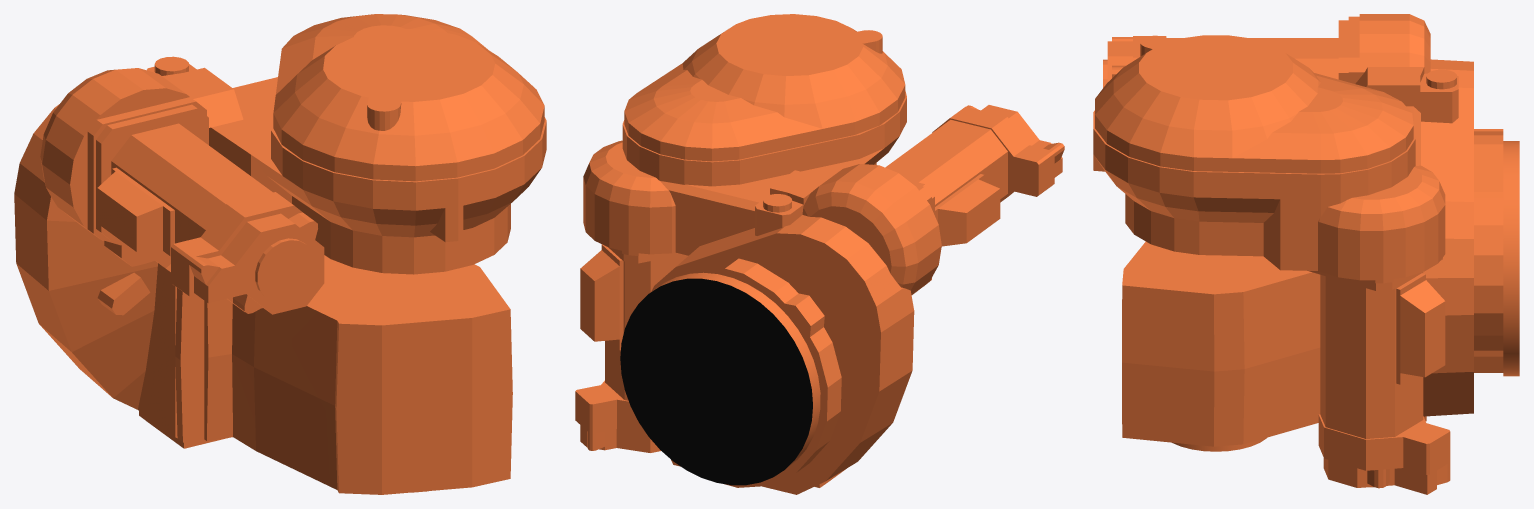
The model's file is irb140_link_1.obj.
3 renders of one model, left to right at view 1: azimuth 30°, elevation 25°; view 2: azimuth 150°, elevation 25°; view 3: azimuth 270°, elevation 25°, orthographic. The views are drawn at different scales.
Parts seen in each view (by area): view 1: Solid1; view 2: Solid1; view 3: Solid1.
Part boxes in pixels (bbox=[...]): Solid1: bbox=[14, 14, 546, 494]; Solid1: bbox=[575, 14, 1064, 494]; Solid1: bbox=[1093, 14, 1519, 494].
Bounding box in the file's own units: 347 × 337 × 348.
